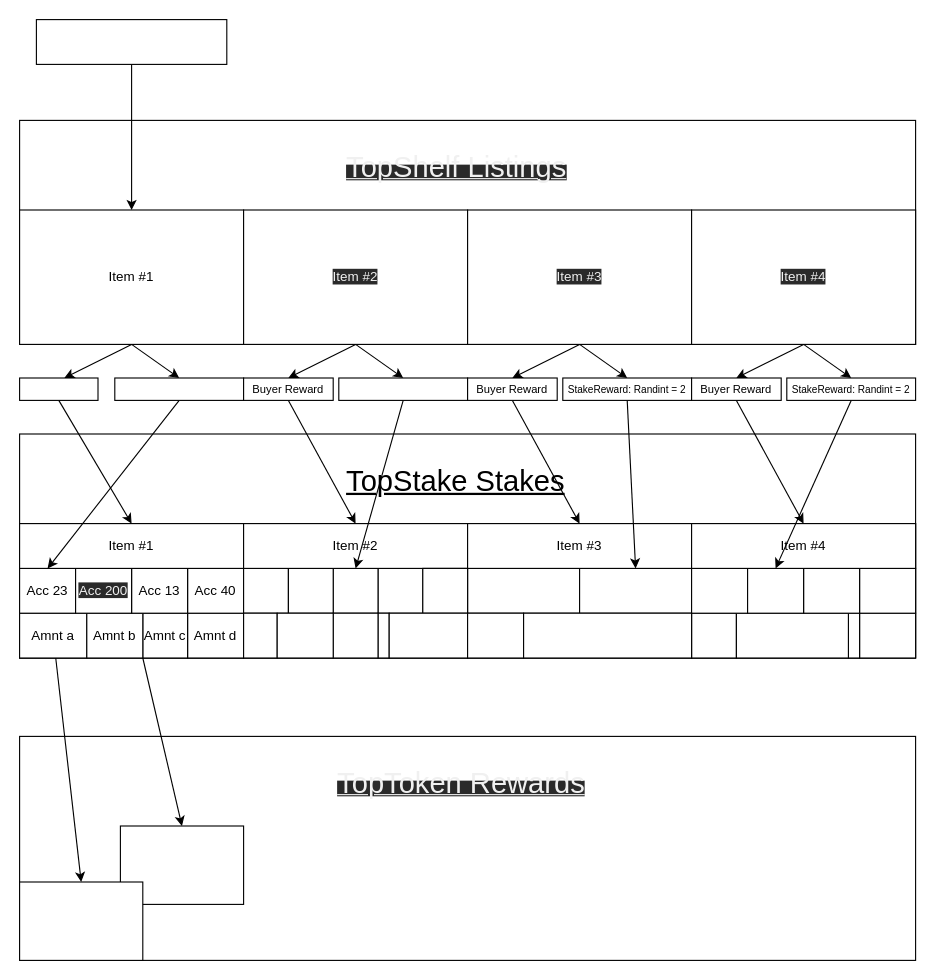
Image size: 946x980. Some labels were removed from this diagram. Each missing label, with the centre of its shape:
"Buy Reward" belongs at (x=58, y=388).
"Buy: Item #1, Account 1, Amount x" belongs at (x=131, y=41).
"Mint: Account 1, amount x × reward" belongs at (x=181, y=864).
"Mint: Account 23, amount a × reward /(a+b+c+d)" belongs at (x=80, y=920).
"StakeReward: Randint = 1" belongs at (x=179, y=388).
"StakeReward: Randint = 3" belongs at (x=403, y=388).
